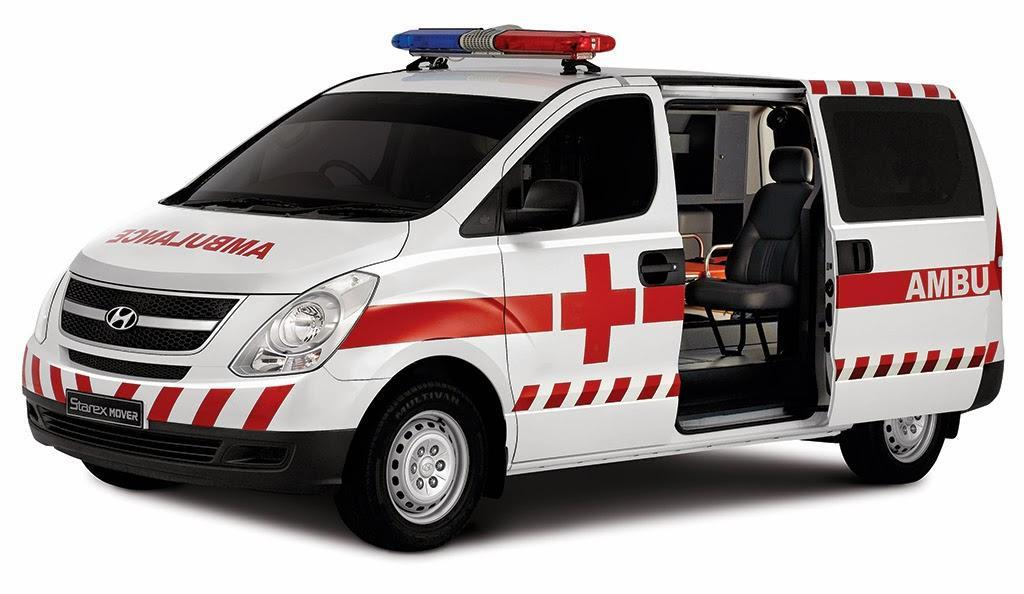Ambulance: (93, 212, 301, 277)
